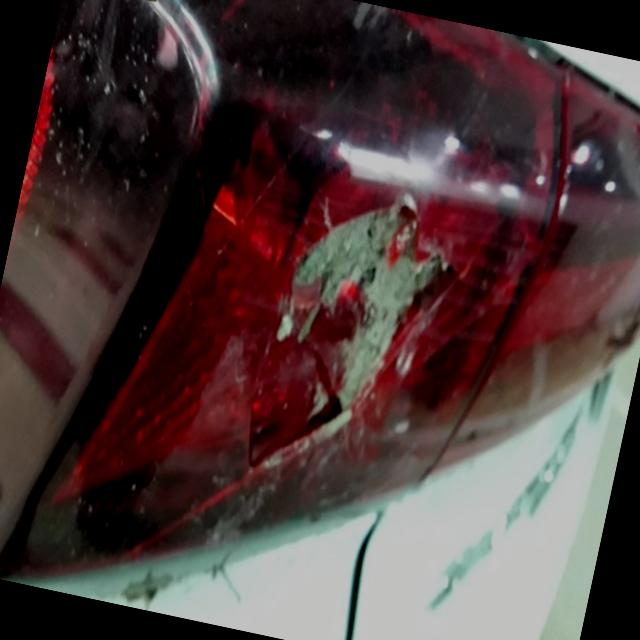Phare abime: (117, 176, 498, 601)
